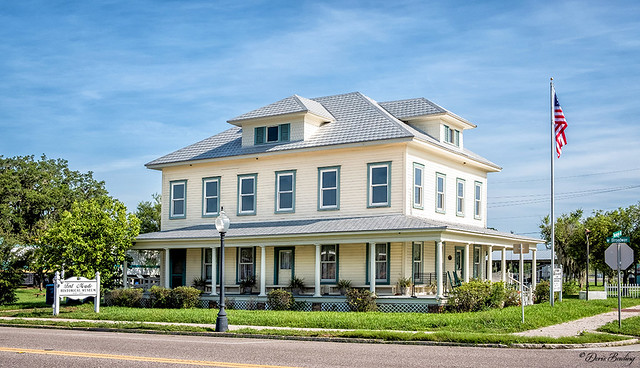medium: (138, 83, 540, 323)
